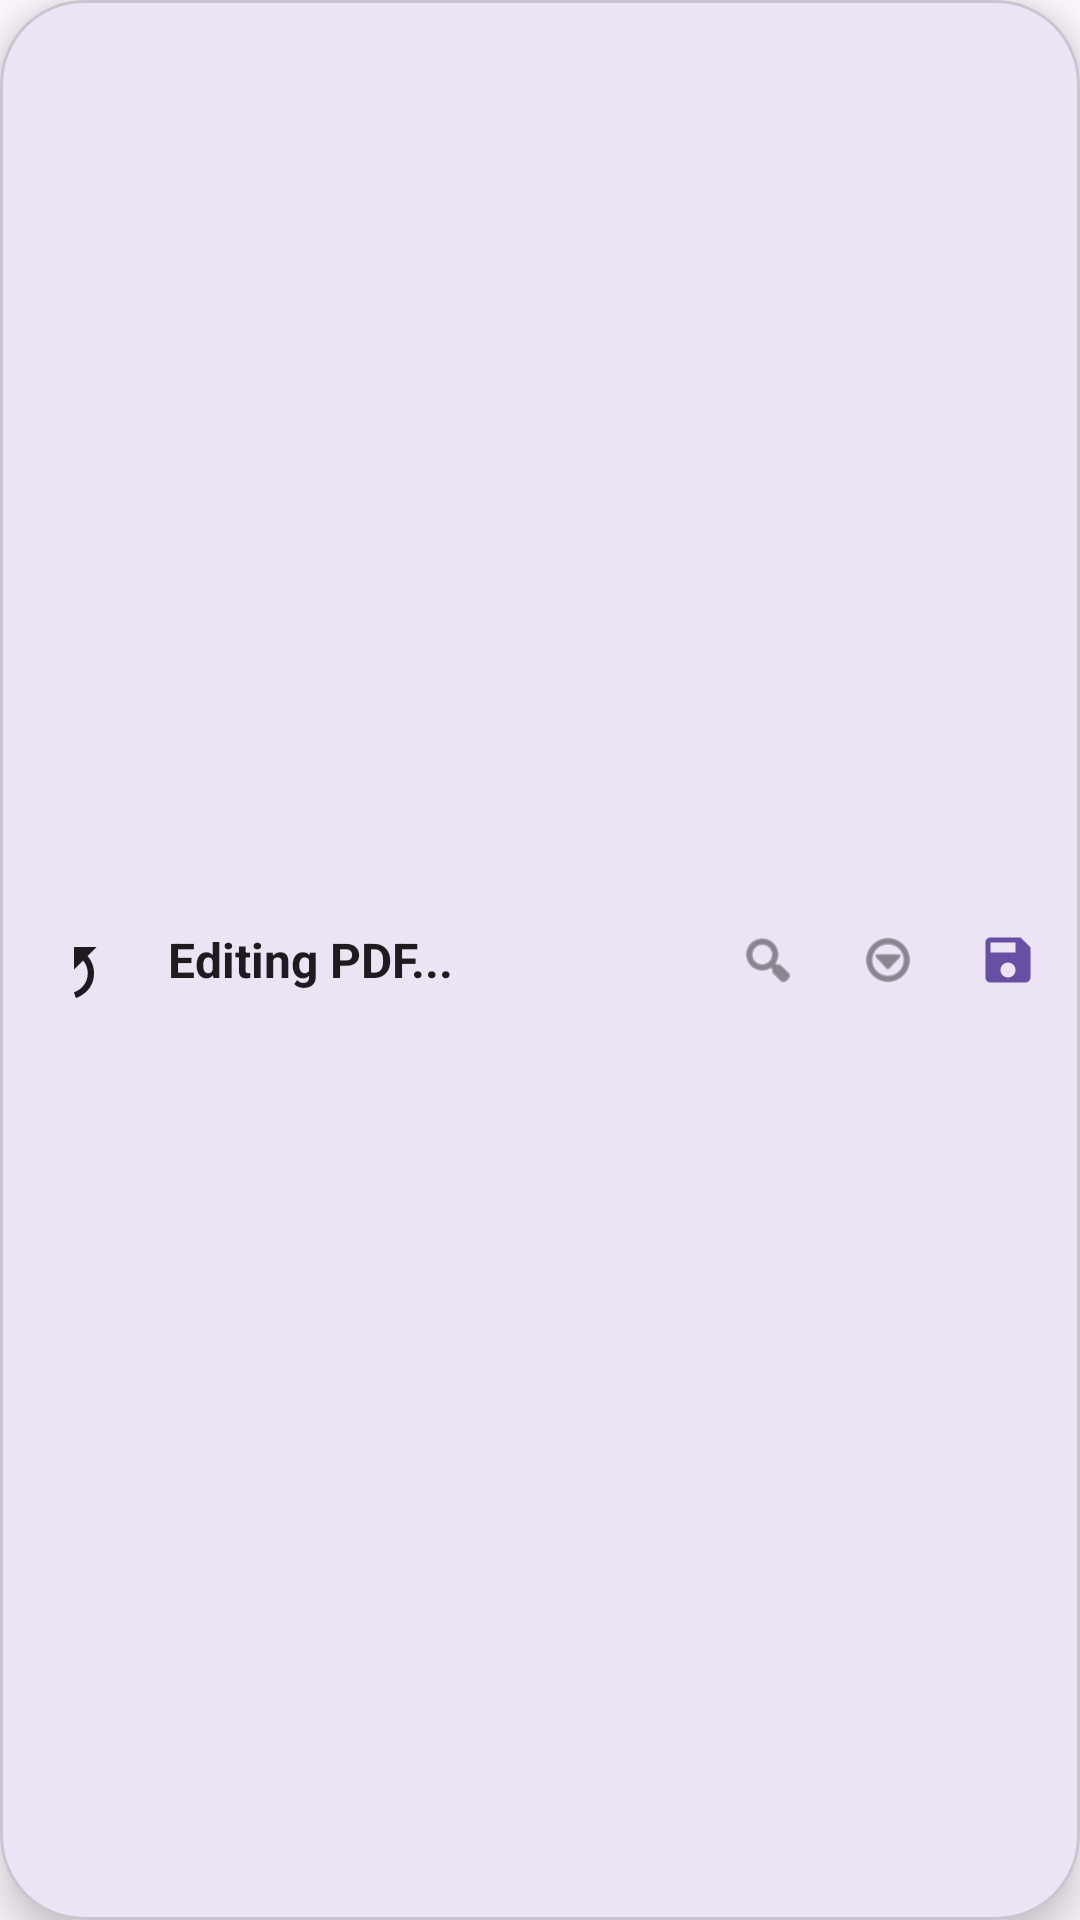

Named icons in this screenshot (1080*1920) and their centers, (x=x, y=y):
more: (x=888, y=960)
save: (x=1008, y=960)
search: (x=768, y=960)
